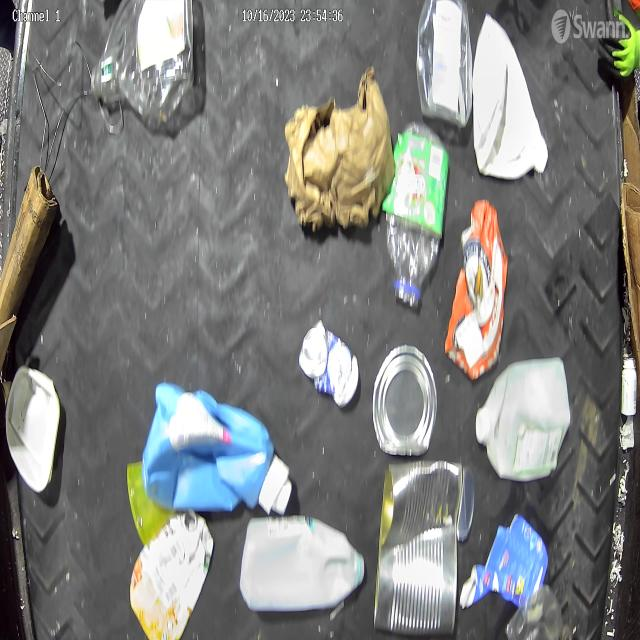can: (380, 459, 470, 569), (376, 524, 458, 636), (372, 344, 438, 456), (296, 317, 359, 410)
milk_jug: (472, 12, 548, 181), (238, 515, 368, 613), (475, 355, 571, 483)
non_white_jug: (142, 381, 286, 519), (98, 2, 200, 120), (130, 511, 215, 640)
plastic_bottle: (387, 125, 450, 308)
